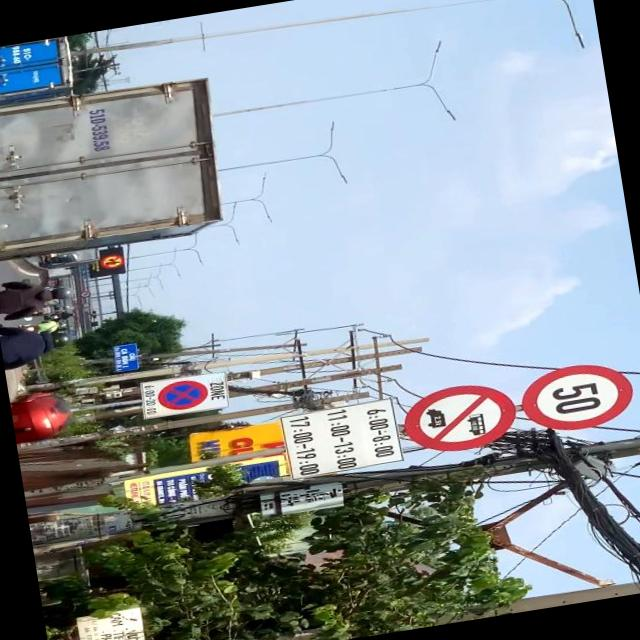P-127: (519, 356, 638, 436)
P-130: (158, 379, 208, 414)
